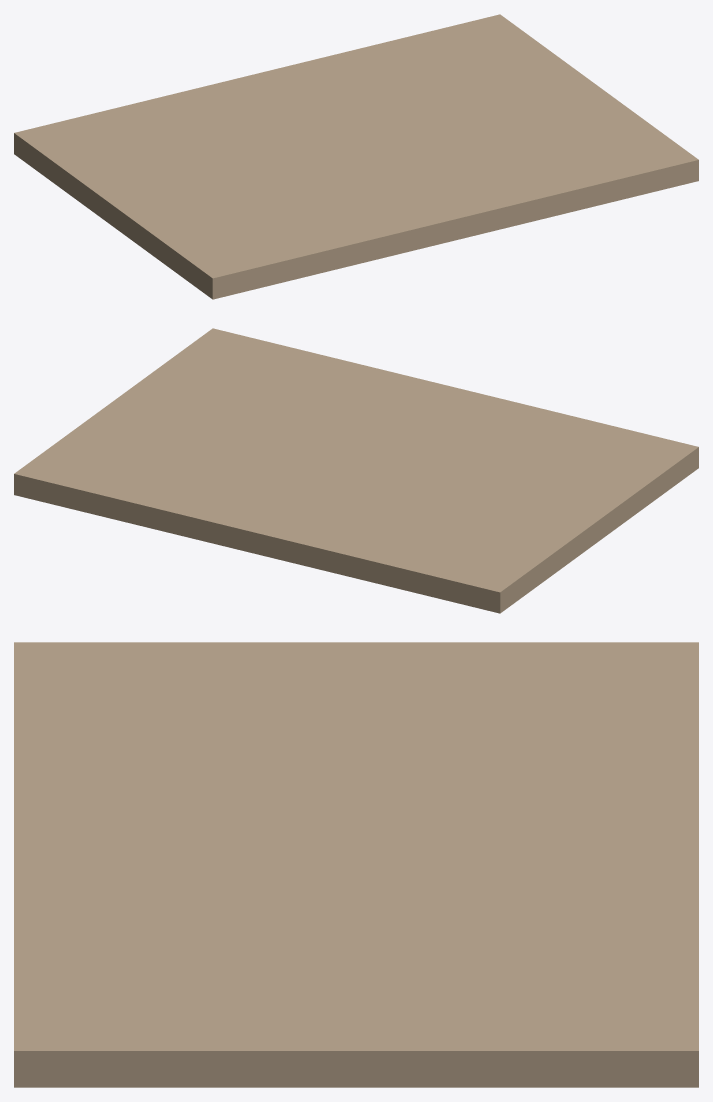
File: pinboard.glb
3 views of the same model, one above another, from view 1: azimuth 30°, elevation 25°; view 2: azimuth 150°, elevation 25°; view 3: azimuth 270°, elevation 25° (orthographic). The views are drawn at different scales.
Parts seen in each view (by area): view 1: cork; view 2: cork; view 3: cork.
Boxes of the visible parts, x1,y1,x2,y2 form: cork: (14, 14, 698, 299); cork: (14, 328, 698, 613); cork: (14, 642, 698, 1087).
Bounding box in the file's own units: 1.2 × 0.105 × 0.85.
